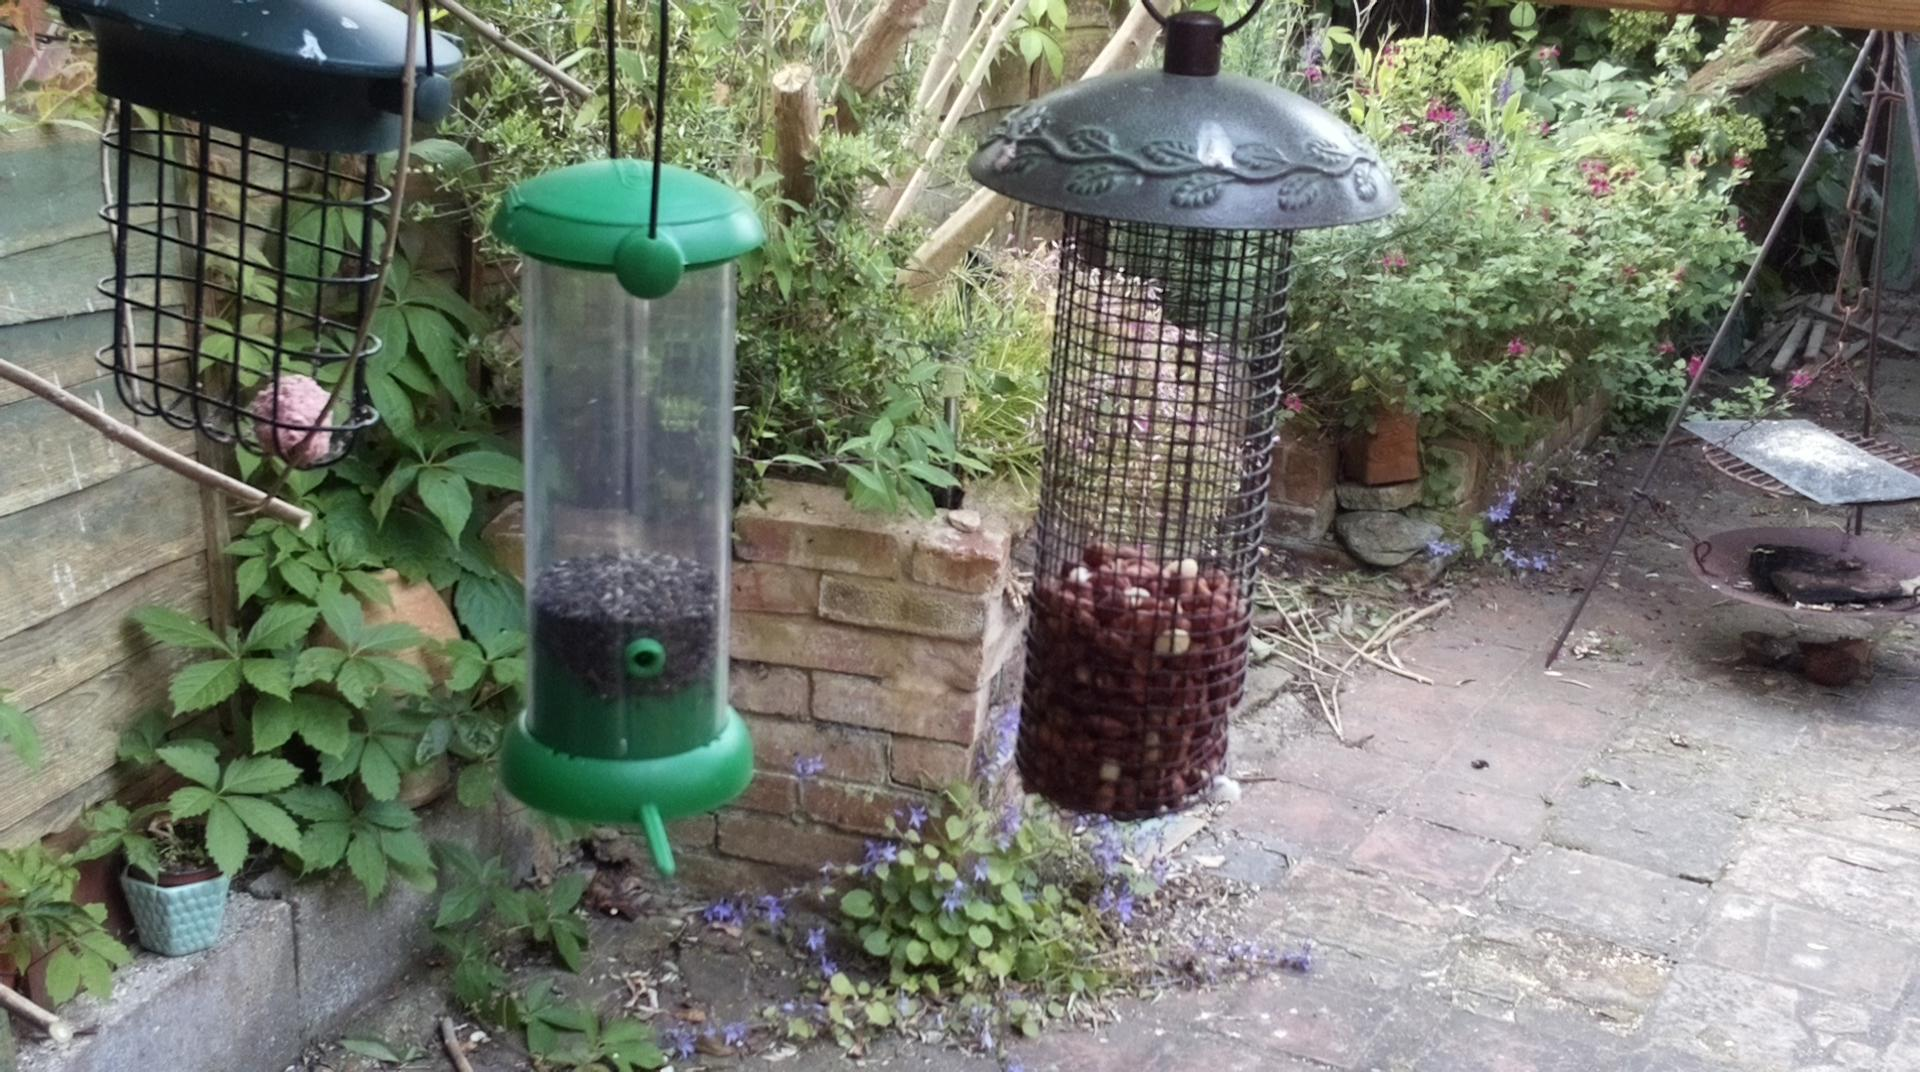unclassified: (1367, 419, 1882, 679), (936, 42, 1418, 261), (1, 876, 495, 1069), (18, 11, 400, 189), (1196, 303, 1337, 591), (1750, 11, 1899, 274), (686, 902, 849, 1040), (1027, 800, 1158, 920)
